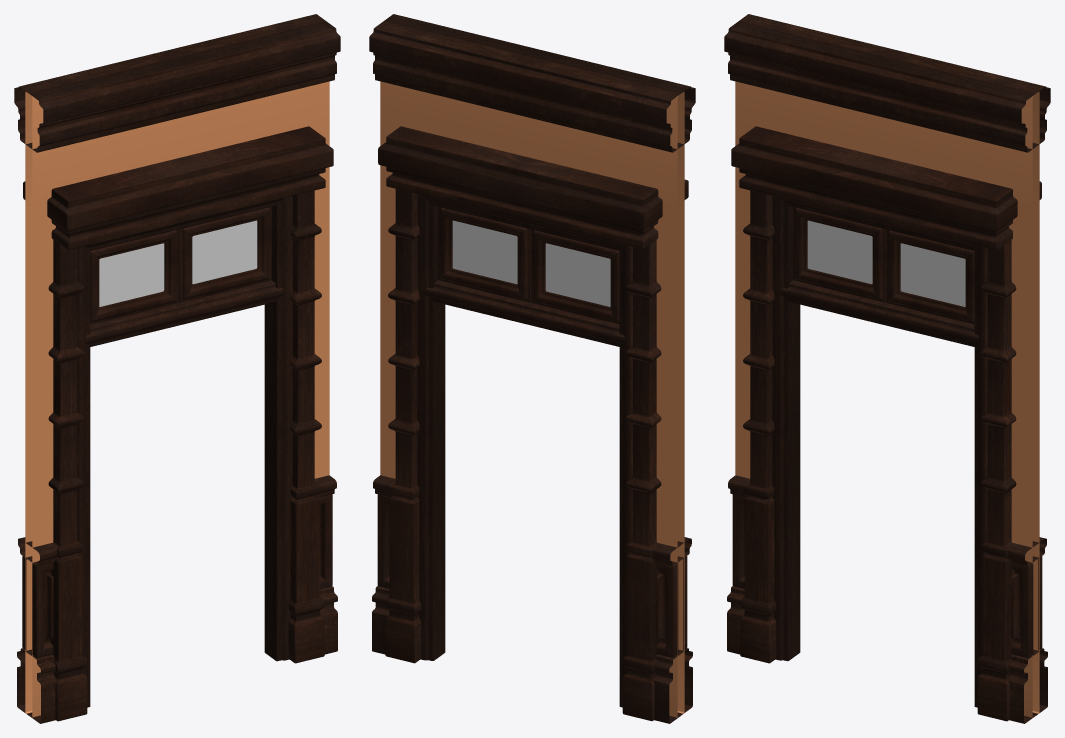
Rendered from SK7 DOOR 1 INT.fbx.
3 renders of one model, left to right at view 1: azimuth 30°, elevation 25°; view 2: azimuth 150°, elevation 25°; view 3: azimuth 330°, elevation 25°, orthographic.
Visible parts, largest first — view 1: SK7 DOOR 1 INT; view 2: SK7 DOOR 1 INT; view 3: SK7 DOOR 1 INT.
Boxes of the visible parts, x1=… form: SK7 DOOR 1 INT: x1=14, y1=14, x2=340, y2=723; SK7 DOOR 1 INT: x1=369, y1=14, x2=695, y2=723; SK7 DOOR 1 INT: x1=724, y1=14, x2=1050, y2=723.
Bounding box in the file's own units: 200 × 400 × 52.07.
